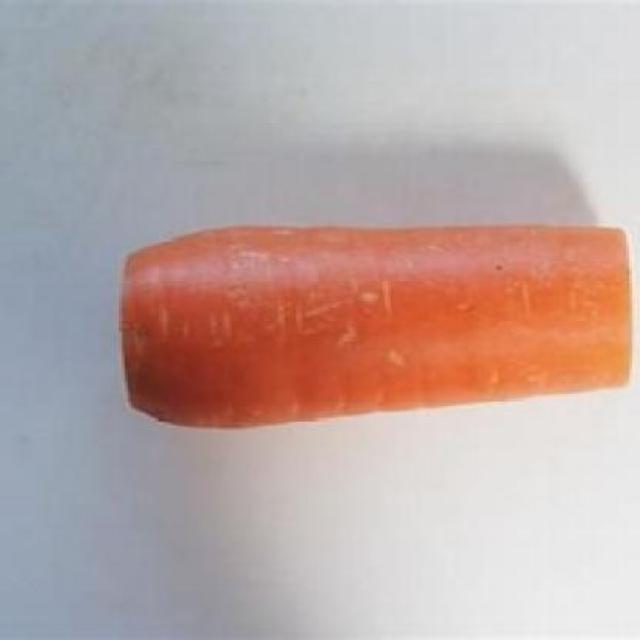carrot: (114, 207, 639, 453)
